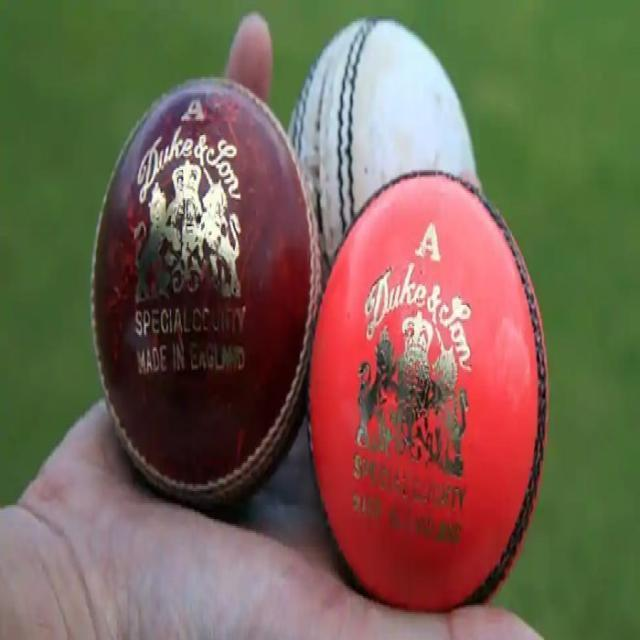cricket ball: (306, 171, 549, 614), (90, 76, 322, 505), (287, 16, 479, 290)
